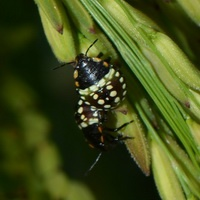insect: (52, 39, 133, 149)
